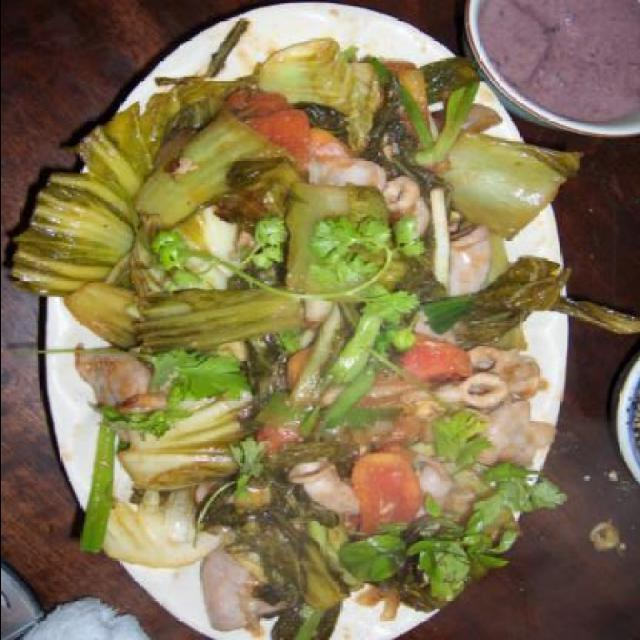Salad: (9, 18, 640, 640)
